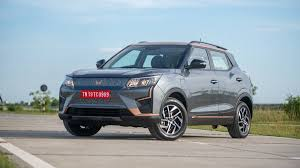XUV 400: (59, 39, 252, 141)
